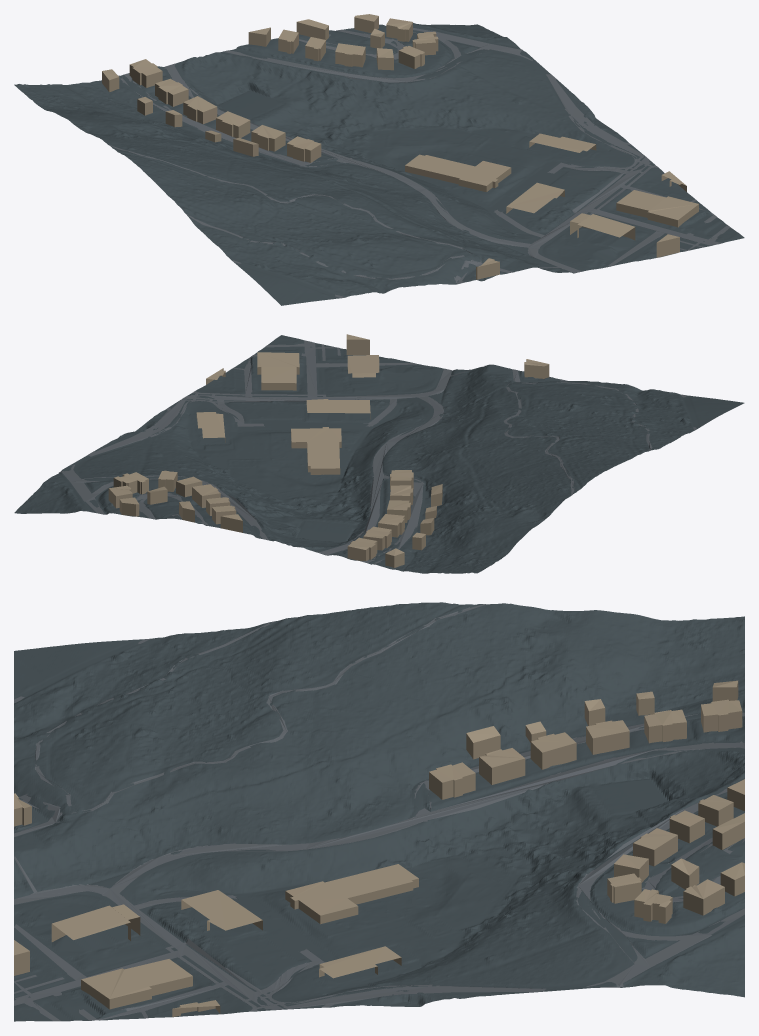
File: epsg26910-1425-10894.lod0.glb
3 views of the same model, one above another, from view 1: azimuth 30°, elevation 25°; view 2: azimuth 150°, elevation 25°; view 3: azimuth 270°, elevation 25° (orthographic). The views are drawn at different scales.
Visible parts, largest first — view 1: epsg26910-1425-10894-lod0; view 2: epsg26910-1425-10894-lod0; view 3: epsg26910-1425-10894-lod0.
Part boxes in pixels (bbox=[...]): epsg26910-1425-10894-lod0: bbox=[14, 14, 744, 305]; epsg26910-1425-10894-lod0: bbox=[14, 334, 744, 573]; epsg26910-1425-10894-lod0: bbox=[14, 602, 744, 1021].
Size of the model in its own units: 384 by 63.89 by 384.
